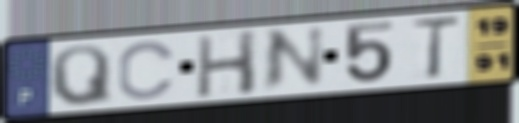5: (341, 21, 399, 86)
C: (115, 38, 179, 102)
H: (193, 28, 260, 100)
N: (258, 23, 327, 96)
Q: (47, 43, 116, 108)
T: (407, 14, 464, 82)
